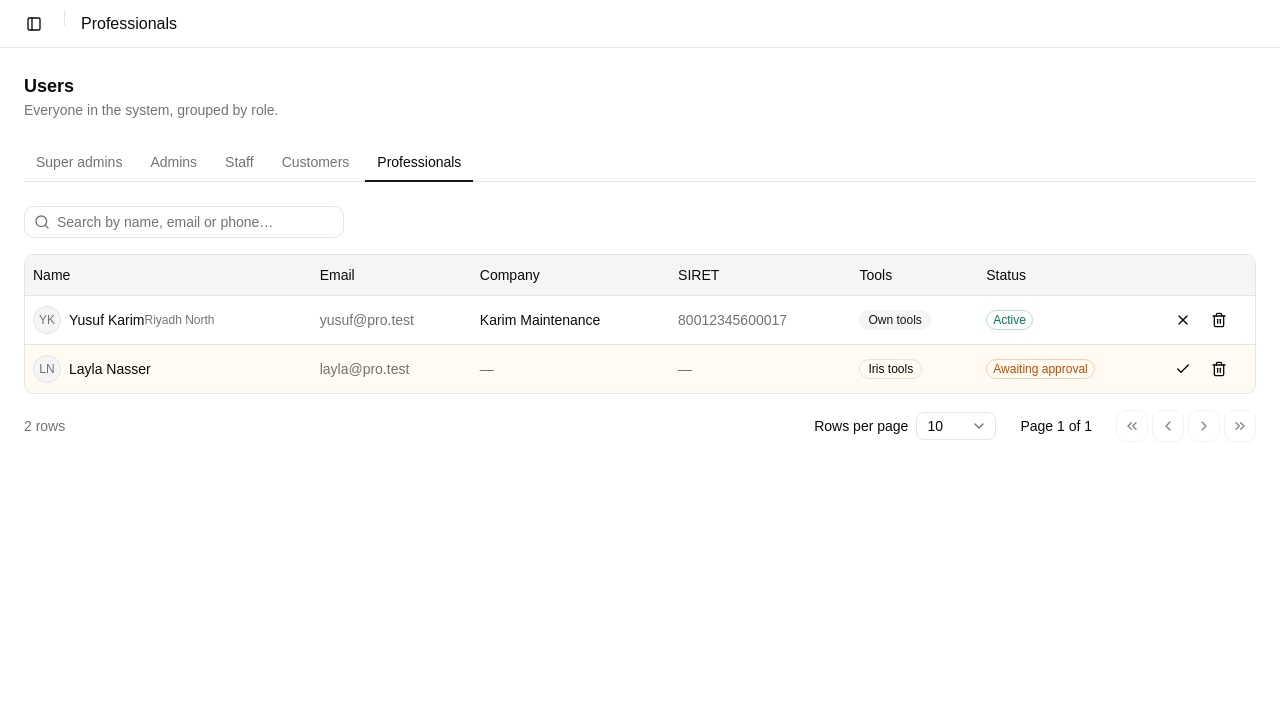
row detail modal › approves a professional from the modal footer
Click the text "Layla Nasser" at (110, 368), box [69, 358, 151, 378]
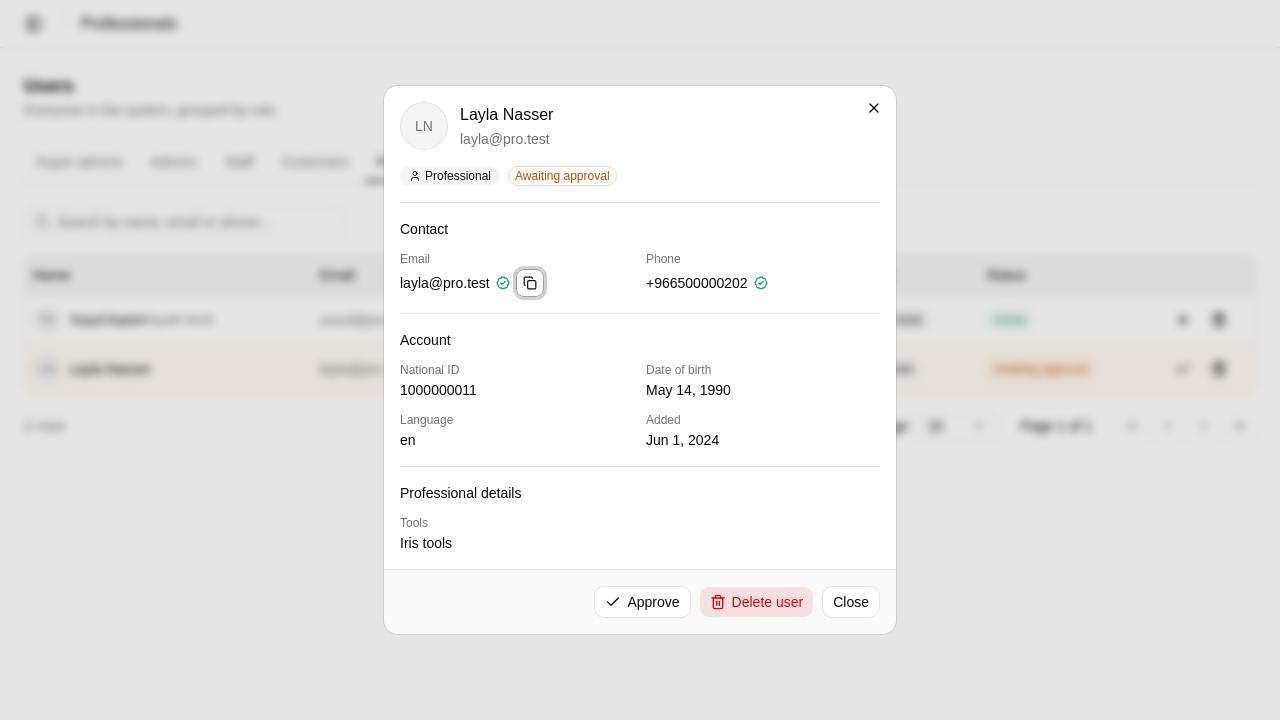
Click the button "Approve" at (643, 602), box [594, 586, 691, 618]
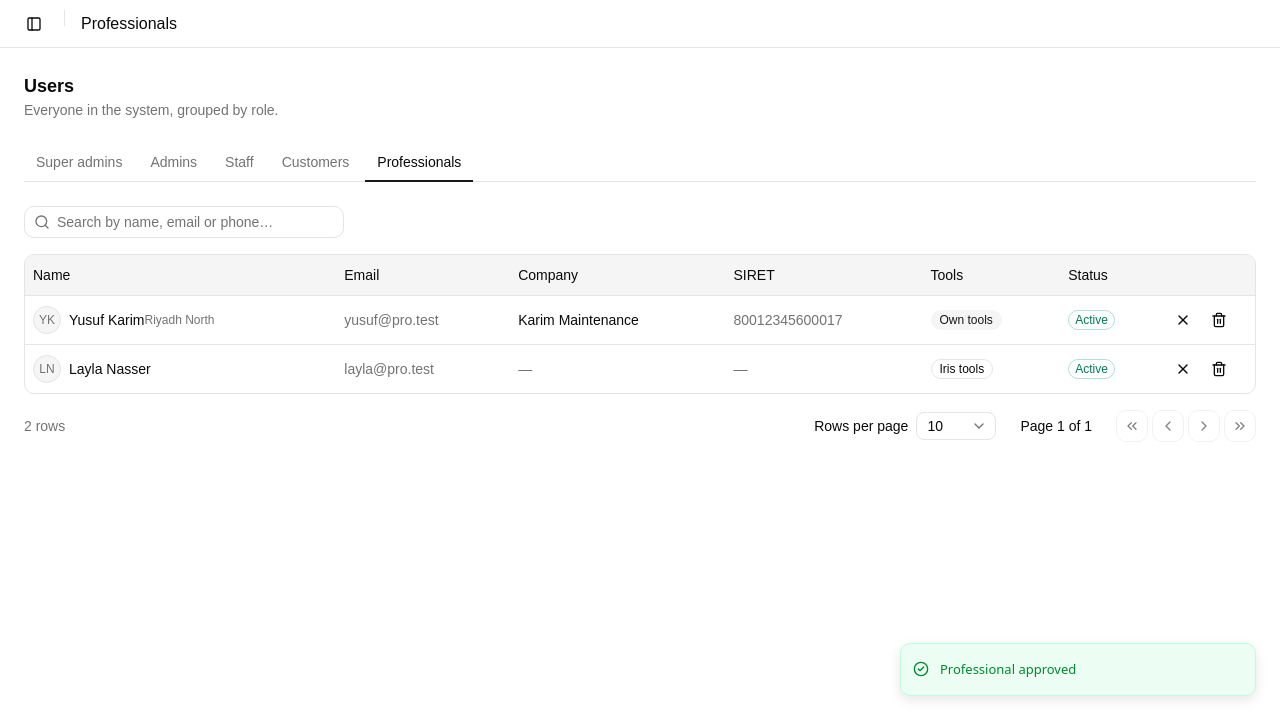
Expected: the icon "Active" in the row of "layla@pro.test" is shown, [1075, 362, 1108, 376]
